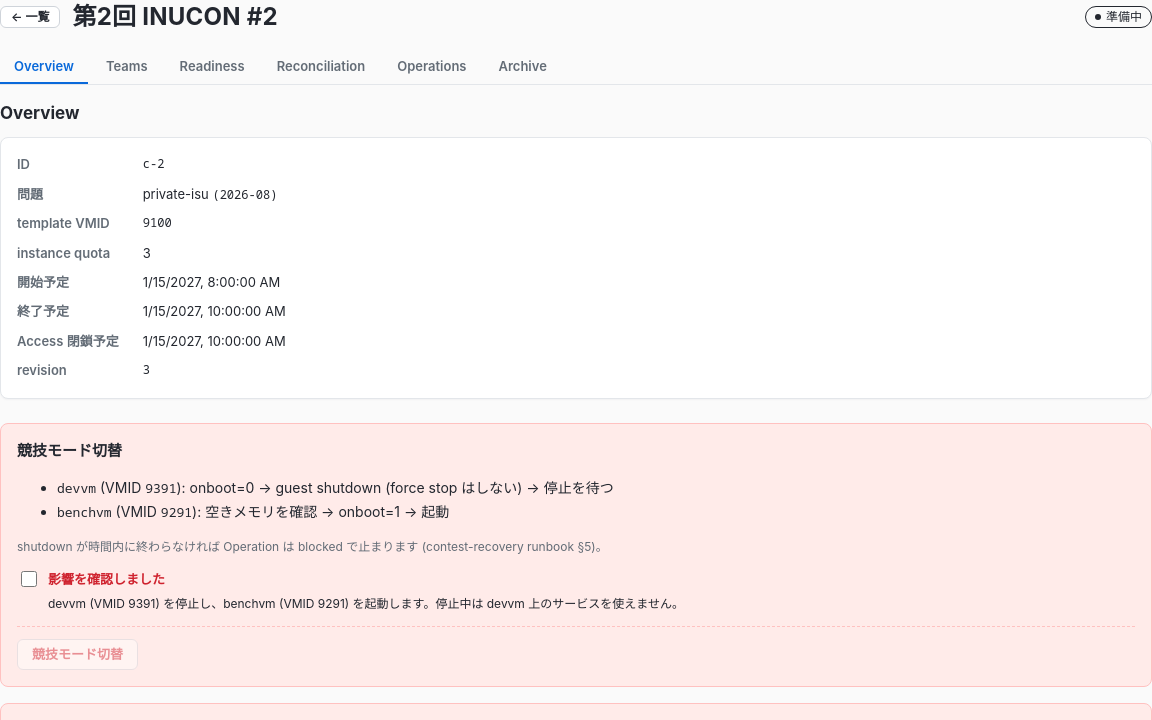
Test: ContestAdmin › Readiness タブは fail を先に、summary をそのまま表示する
The width and height of the screenshot is (1152, 720).
Check: the text "準備中" is shown, box [1085,6,1151,28]
What coordinates should you click on to do the following:
click the tab "Readiness"
I would click on:
 (212, 67)
Its box is [166,50,259,84].
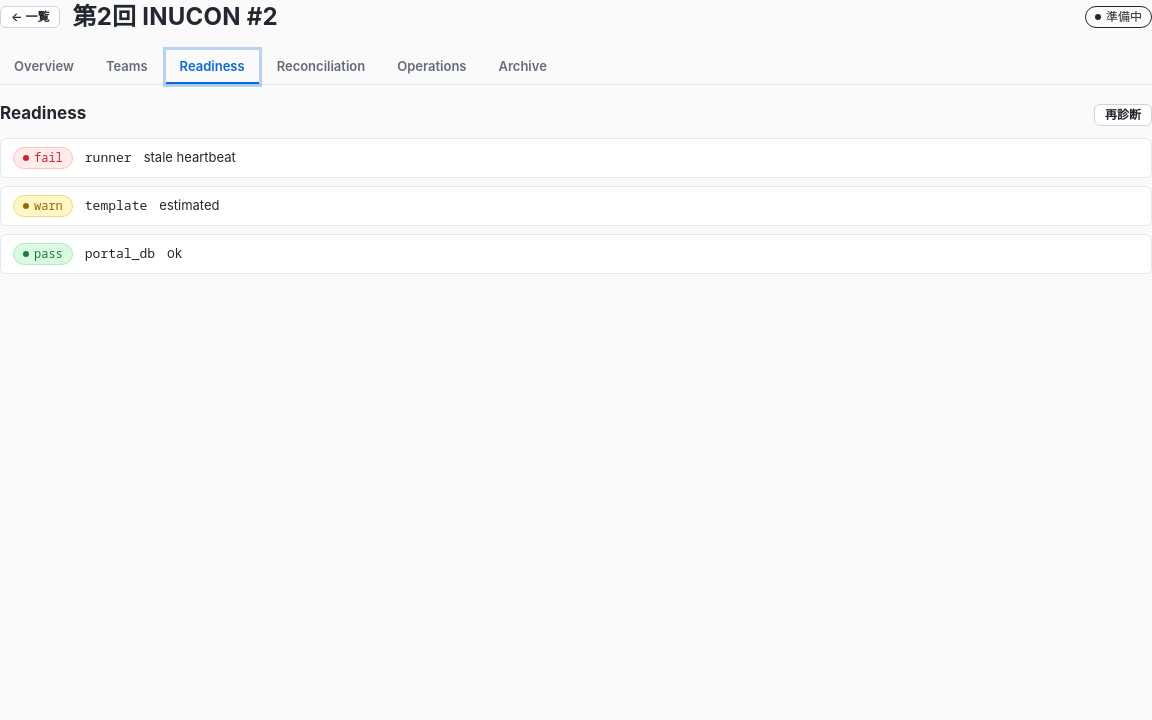
Check: the list item with test id "readiness-item" shows "runner", box [85,148,132,166]
Check: the list item with test id "readiness-item" shows "stale heartbeat", box [144,149,236,165]
